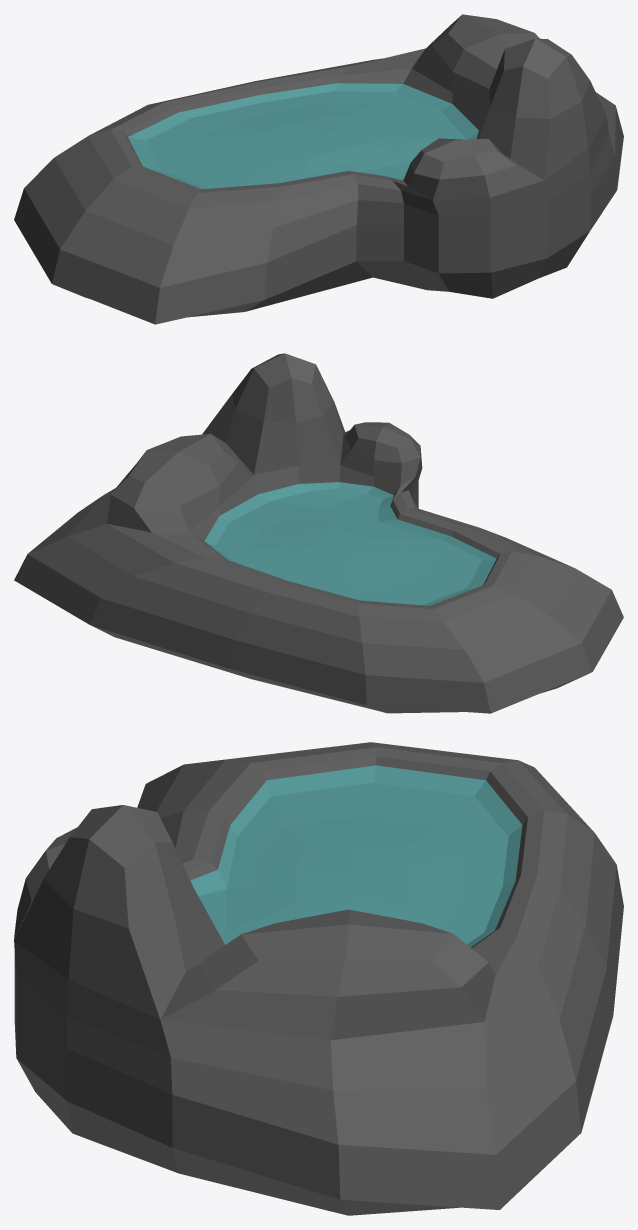
File: Spring.fbx
The picture shows the model from 3 angles, top to bottom: view 1: azimuth 30°, elevation 25°; view 2: azimuth 150°, elevation 25°; view 3: azimuth 270°, elevation 25°; orthographic projection. The views are drawn at different scales.
Parts seen in each view (by area): view 1: Cube; view 2: Cube; view 3: Cube.
Boxes of the visible parts, x1,y1,x2,y2 form: Cube: (14,14,623,324); Cube: (14,353,623,713); Cube: (14,742,623,1215).
Size of the model in its own units: 199 by 75.4 by 125.
